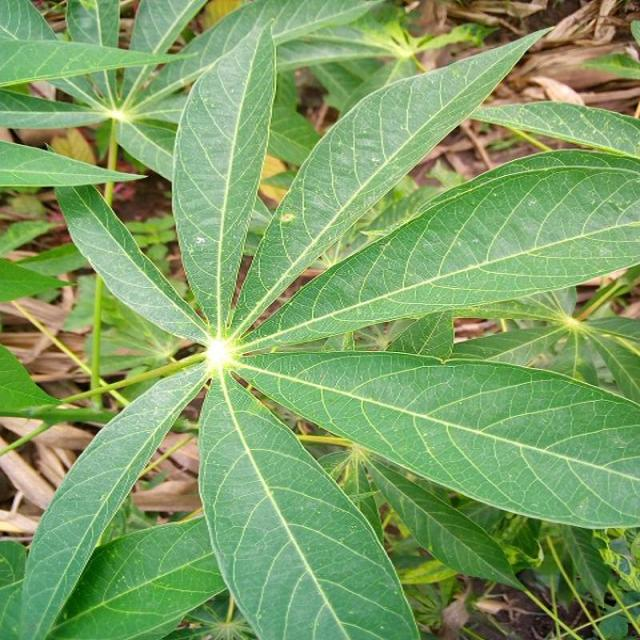cassava leaf: (2, 8, 638, 638), (230, 22, 556, 337), (196, 369, 421, 638)
